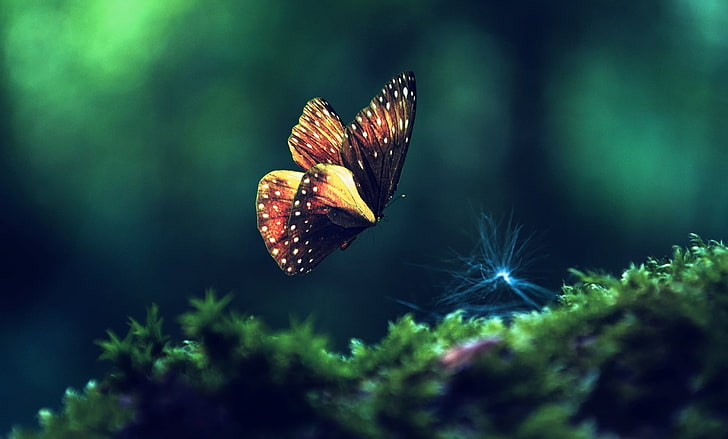insect: (255, 68, 416, 277)
